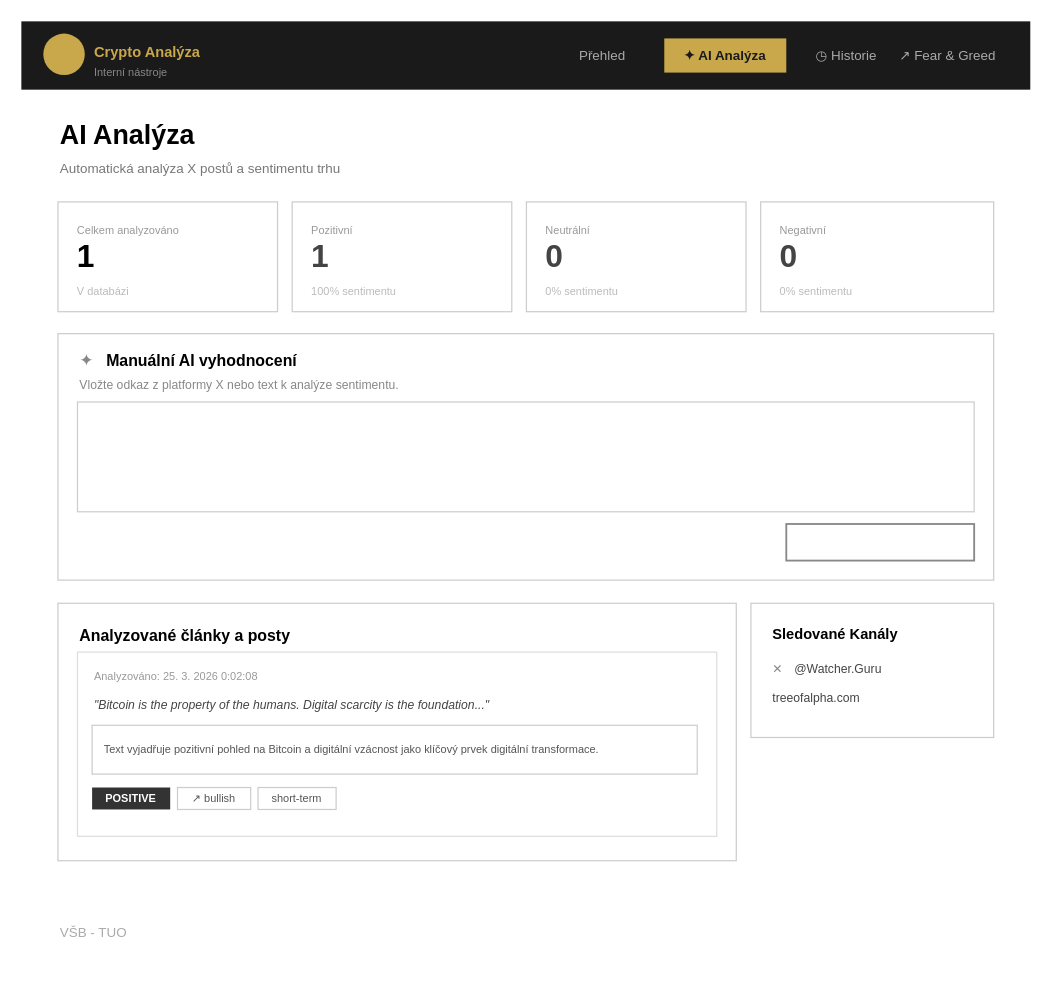
This 1050x988 diagram has some shape labels left out. The centre of each missing label's shape, as x and y in pixels:
SB: the point at 63,53
Vložte URL nebo text článku...: the point at 525,456
↑ Odeslat k analýze: the point at 880,542
